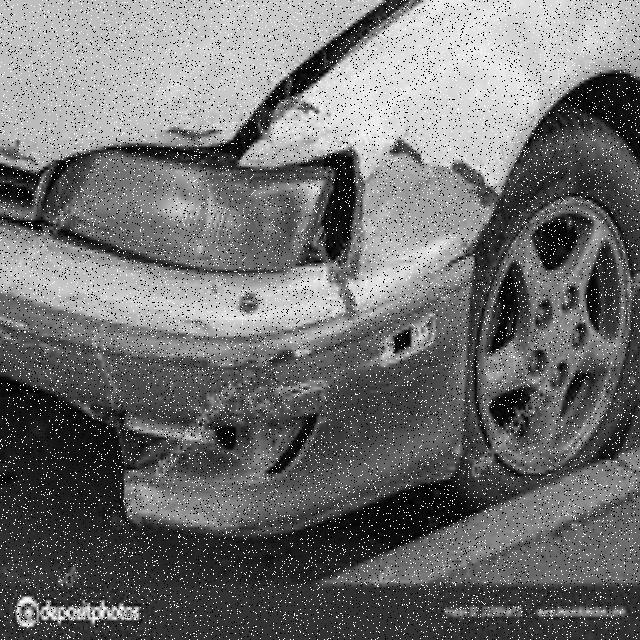bonnet-dent: (1, 0, 264, 206)
fender-dent: (251, 31, 638, 274)
front-bumper-dent: (1, 204, 470, 524)
